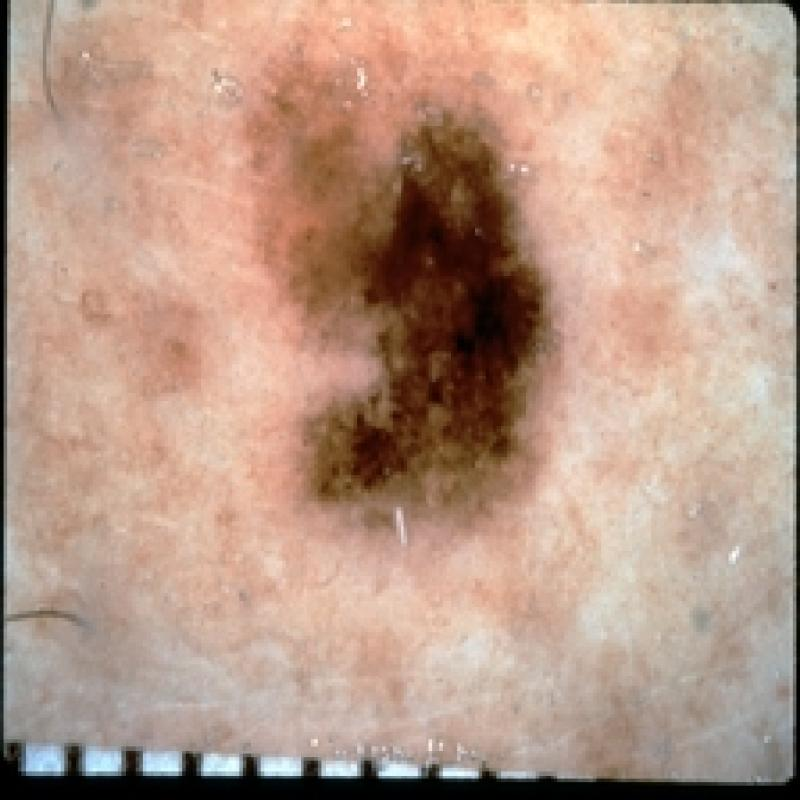malignant: (213, 49, 572, 543)
